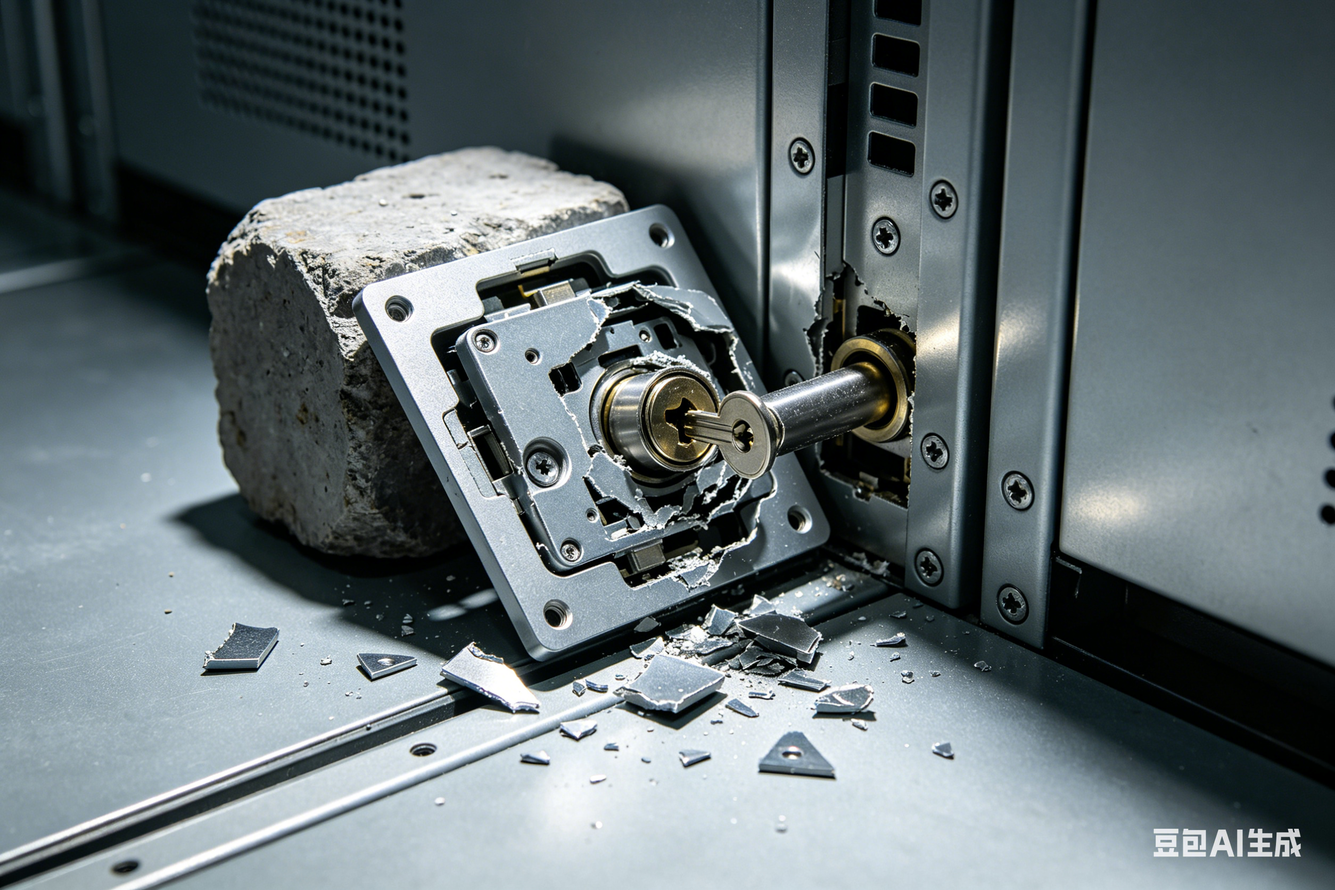BadLock: (508, 301, 877, 496)
